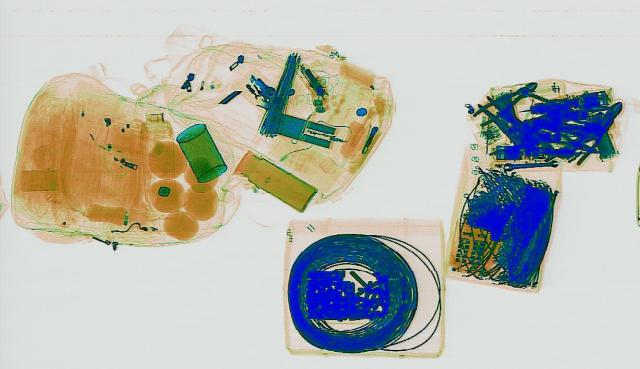Pliers: (553, 98, 631, 165), (462, 79, 546, 125)
Wrench: (499, 158, 559, 170)
